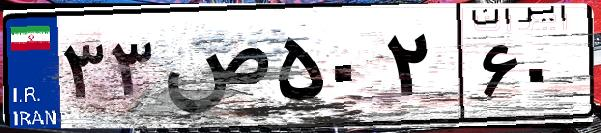0: (330, 28, 385, 110), (525, 38, 570, 115)
2: (385, 28, 445, 110)
3: (57, 26, 110, 100), (110, 28, 158, 98)
5: (270, 28, 330, 110)
6: (475, 38, 525, 113)
ص: (158, 20, 270, 120)
